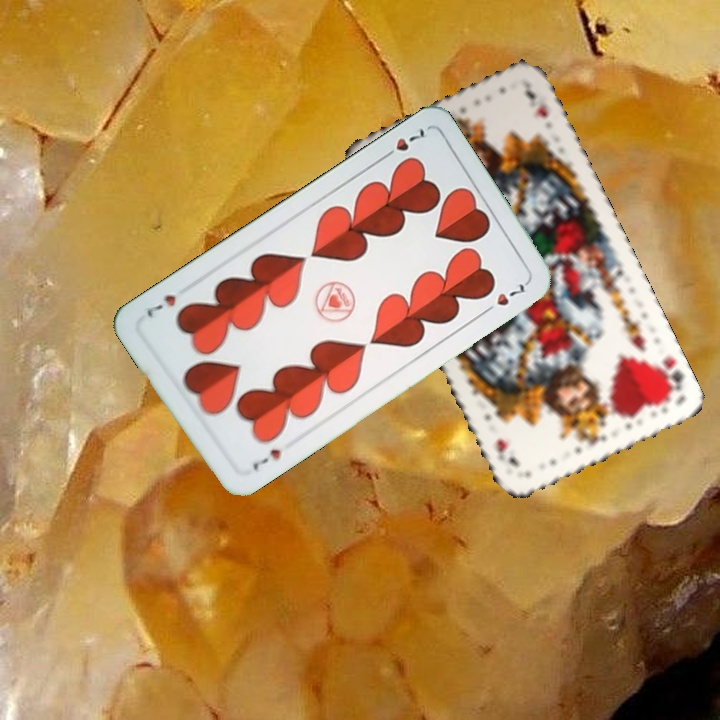H7: (377, 124, 428, 163), (248, 444, 284, 473)
HK: (651, 352, 686, 402)
